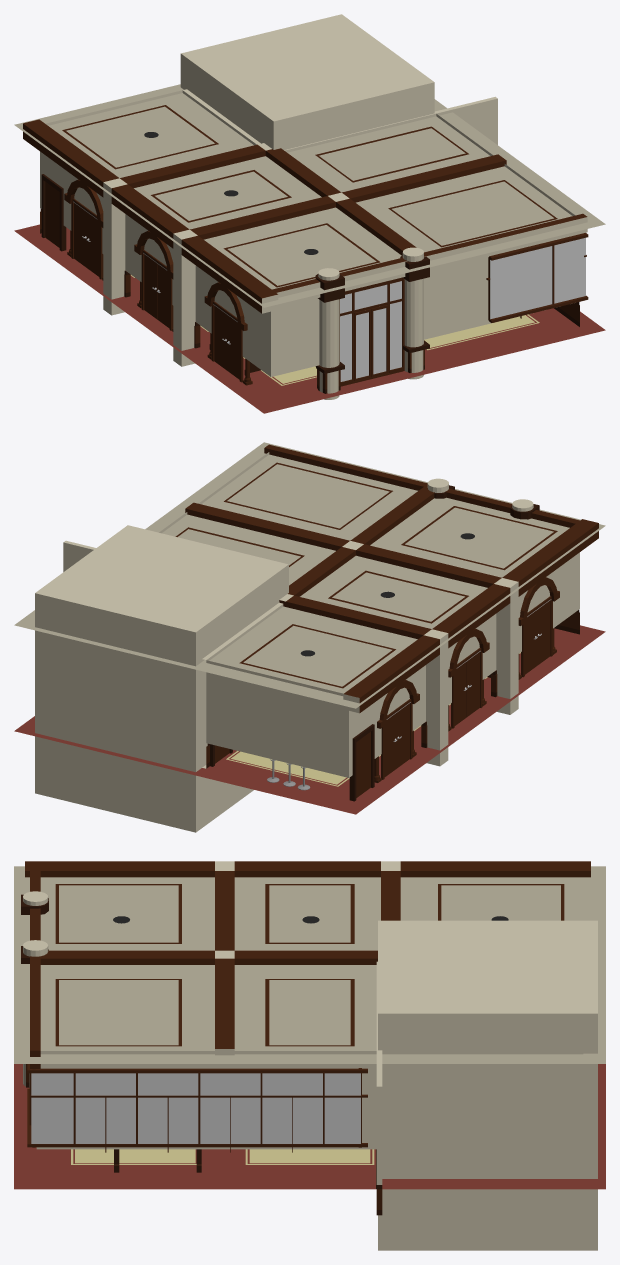
Rendered from JPL hall.fbx.
3 renders of one model, top to bottom at view 1: azimuth 30°, elevation 25°; view 2: azimuth 150°, elevation 25°; view 3: azimuth 270°, elevation 25°, orthographic. The views are drawn at different scales.
Parts seen in each view (by area): view 1: Plane.005; view 2: Plane.005; view 3: Plane.005.
Boxes of the visible parts, <box> form: Plane.005: <box>14,14,605,413</box>; Plane.005: <box>14,442,605,832</box>; Plane.005: <box>14,861,605,1250</box>.
Size of the model in its own units: 25.48 by 12.6 by 28.52.
